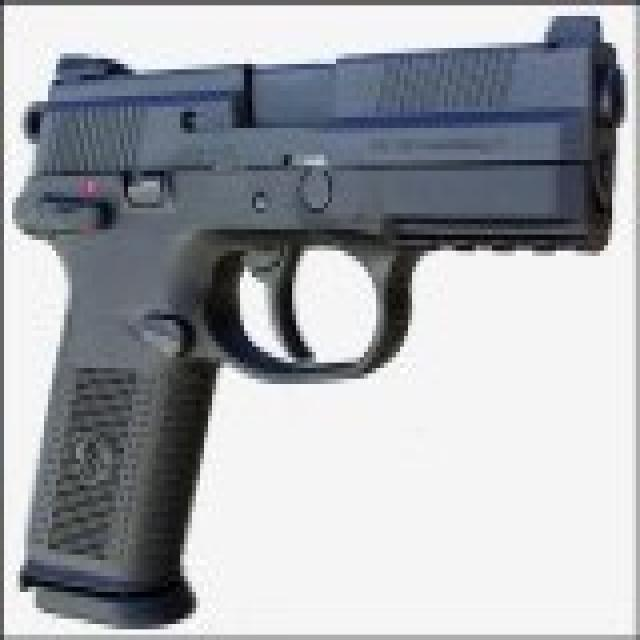Gun: (20, 28, 624, 603)
